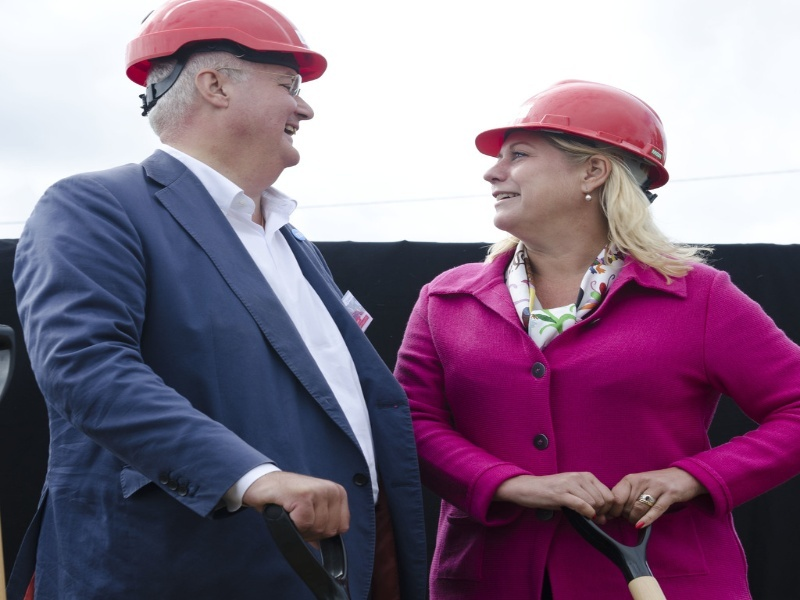baret: (474, 68, 671, 174), (123, 1, 327, 82)
